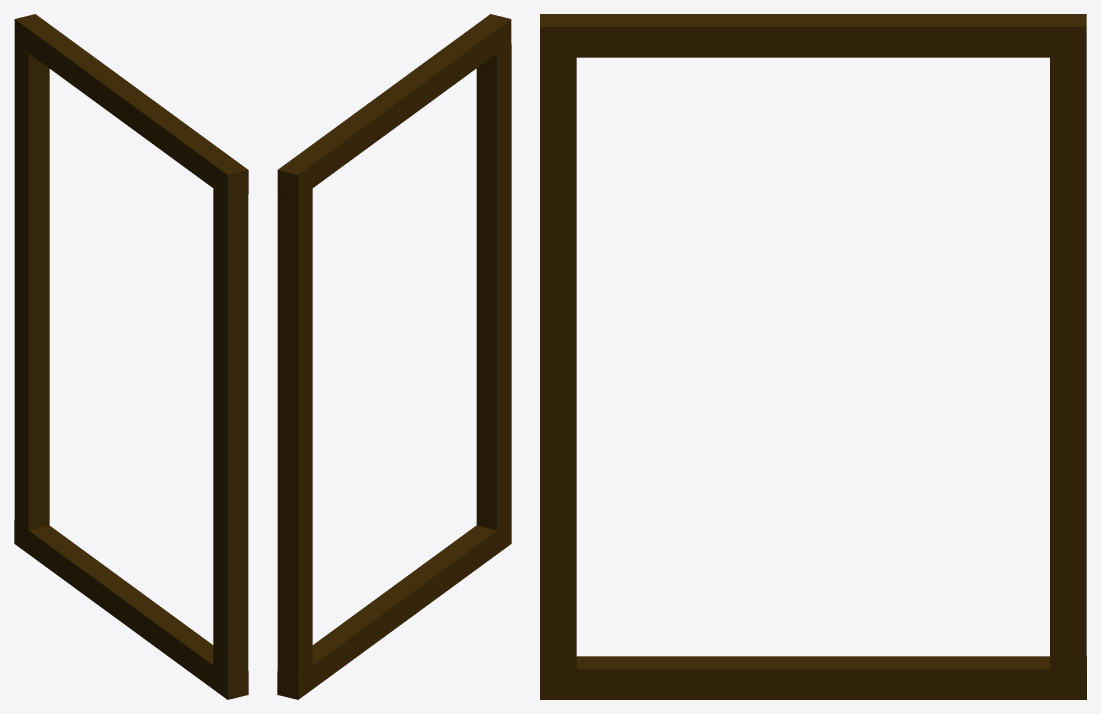
Rendered from geo_paintingframe_01.fbx.
3 views of the same model, side by side, from view 1: azimuth 30°, elevation 25°; view 2: azimuth 150°, elevation 25°; view 3: azimuth 270°, elevation 25° (orthographic). The views are drawn at different scales.
Parts seen in each view (by area): view 1: pCube5; view 2: pCube5; view 3: pCube5.
Boxes of the visible parts, <box> form: pCube5: <box>14,14,248,699</box>; pCube5: <box>277,14,511,699</box>; pCube5: <box>540,14,1086,699</box>.
Bounding box in the file's own units: 3.35 × 80.17 × 59.06.
